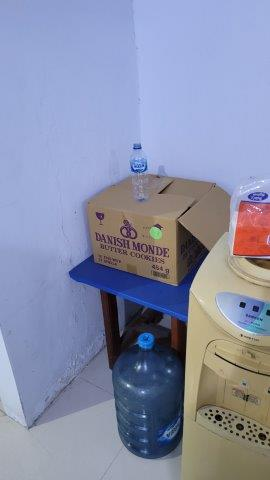botolplastik: (130, 143, 147, 202)
